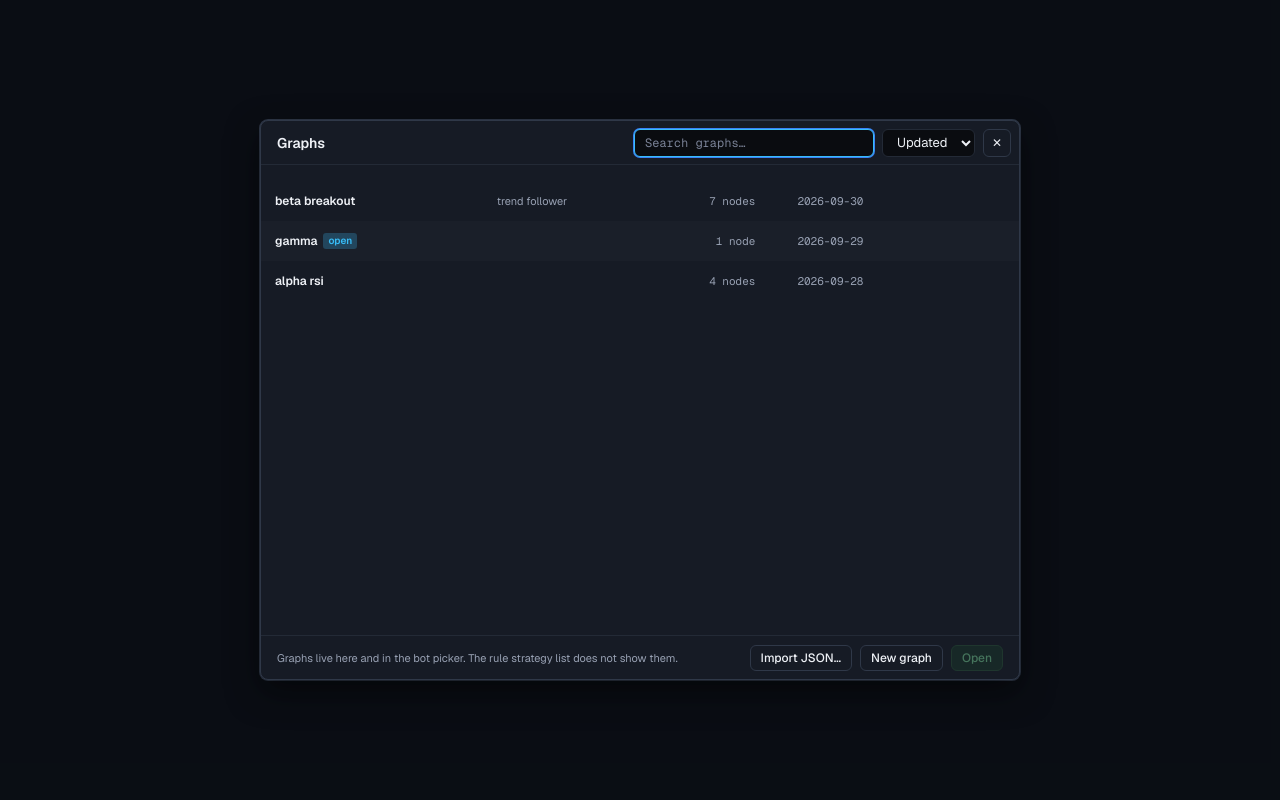
it: GraphBrowser › marks the open graph and says when a search matches nothing
The width and height of the screenshot is (1280, 800).
Step 1. Type "zzz" into the field with test id "nb-browser-search" → (754, 142), box [634, 128, 874, 156]
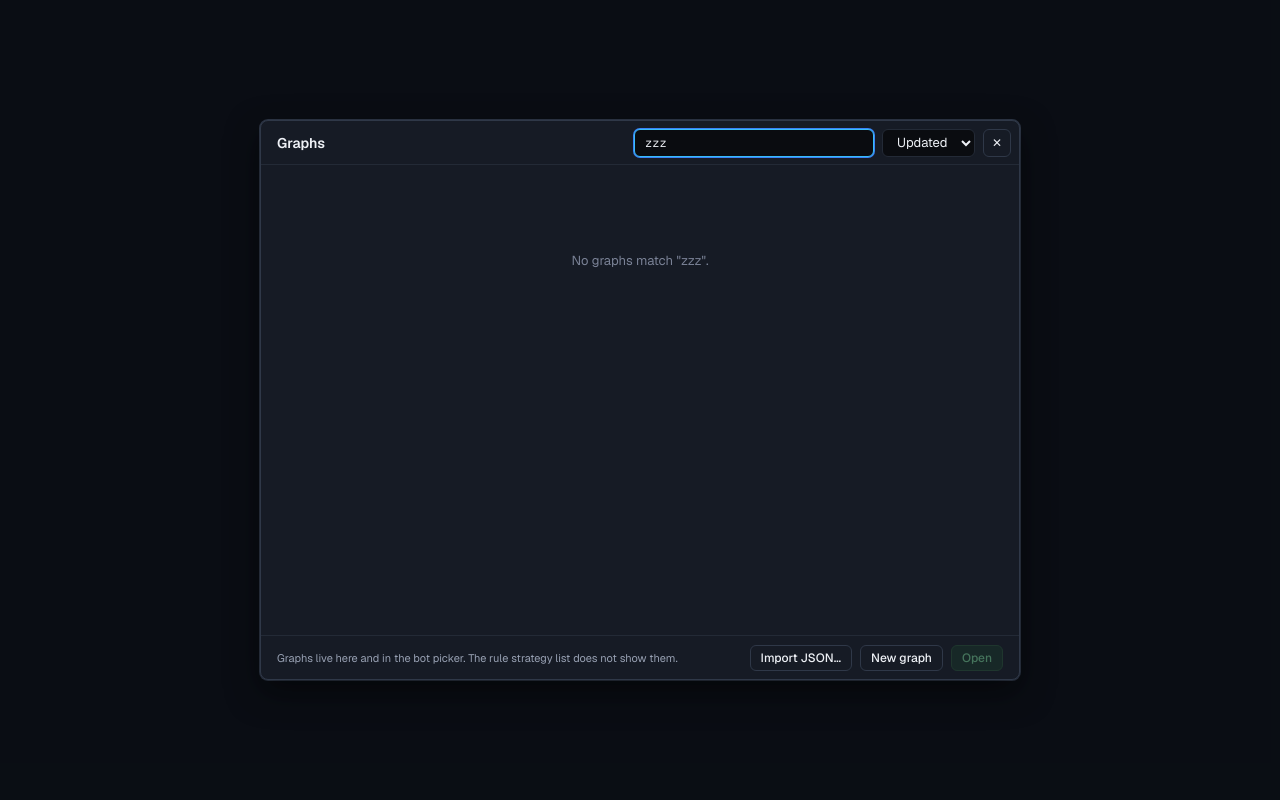
Expected: the text "No graphs match \"zzz\"." is shown, [572, 252, 709, 269]
